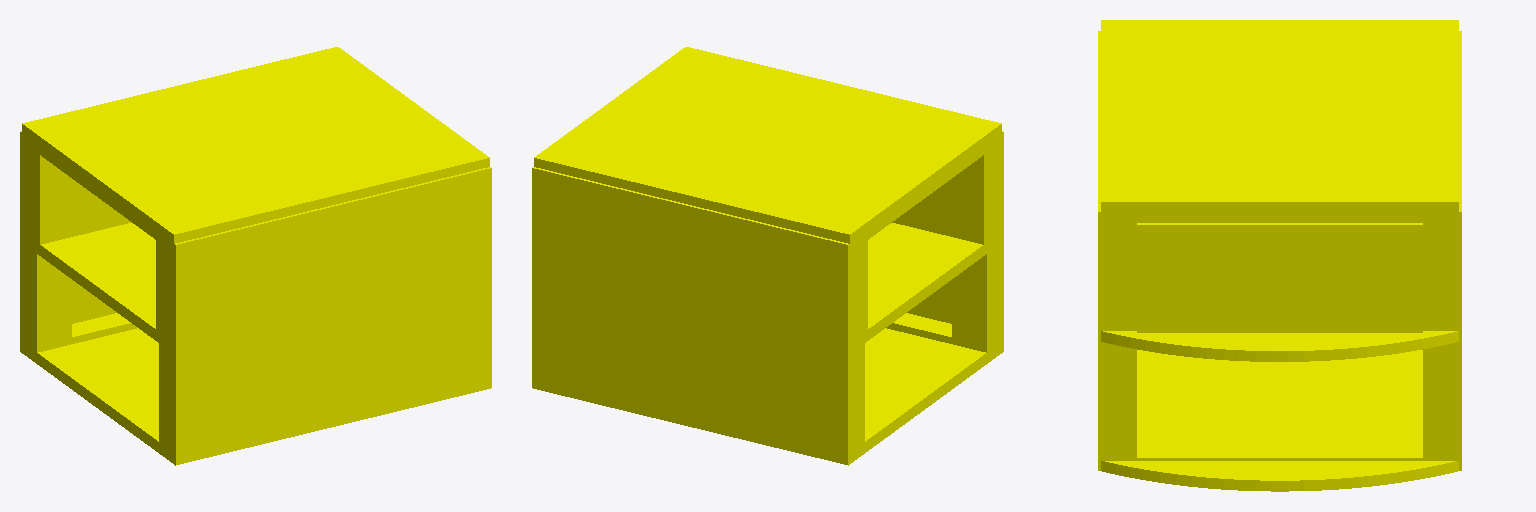
The robot description file, URDF, robot "drawer":
<?xml version="1.0"?>

<robot name="drawer">
  <link name="drawer_bottom">
    <contact>
      <restitution value="1.0e-8" />
      <!-- <lateral_friction value="1.0"/> -->
      <!-- <rolling_friction value="1.0e+8"/> 
      <spinning_friction value="1.0e+8"/>  -->
      <contact_cfm value="0.00001"/>
      <contact_erp value="0.2"/>
    </contact>
    
    <inertial>
      <origin xyz="0 0 0" />
      <mass value="0.1" />
      <inertia  ixx="1" ixy="0.0"  ixz="0.0"  iyy="1"  iyz="0.0"  izz="1" />
    </inertial>

    <visual>
      <origin xyz="0 0 0"/>
      <geometry>
	<mesh filename="mesh/drawer_bottom.stl" />
      </geometry>
      <material name="LightBule">
        <color rgba="1. 1. 0. 1.0"/>
      </material>zz
    </visual>

    <collision>
      <origin xyz="0 0 0"/>
      <geometry>
        <mesh filename="mesh/drawer_bottom.stl" />
      </geometry>
    </collision>

  </link>



  <link name="drawer_bottom2">
    <contact>
      <restitution value="1.0e-8" />
      <!-- <lateral_friction value="1.0"/> -->
      <!-- <rolling_friction value="1.0e+8"/> 
      <spinning_friction value="1.0e+8"/> -->
      <contact_cfm value="0.00001"/>
      <contact_erp value="0.2"/>
    </contact>
    <inertial>
      <origin xyz="0 0 0" />
      <mass value="0.1" />
      <inertia  ixx="1" ixy="0.0"  ixz="0.0"  iyy="1"  iyz="0.0"  izz="1" />
    </inertial>

    <visual>
      <origin xyz="0 0 0"/>
      <geometry>
  <mesh filename="mesh/drawer_bottom.stl" />
      </geometry>
      <material name="LightBule">
        <color rgba="1. 1. 0. 1.0"/>
      </material>
    </visual>

    <!-- <collision>
      <origin xyz="0 0 0"/>
      <geometry>
        <mesh filename="mesh/drawer_bottom.stl" />
      </geometry>
    </collision> -->

  </link>

  <joint name="pile" type="fixed">
    <parent link="drawer_bottom"/>
    <child link="drawer_bottom2"/>
    <origin rpy="0 0 0" xyz="0 0 0.06" />
  </joint>

  <link name="drawer_cover">
    <contact>
      <restitution value="1.0e-8" />
      <!-- <lateral_friction value="1.0"/> -->
      <!-- <rolling_friction value="1.0e+8"/> 
      <spinning_friction value="1.0e+8"/> -->
      <contact_cfm value="0.00001"/>
      <contact_erp value="0.2"/>
    </contact>
    <inertial>
      <origin xyz="0 0 0" />
      <mass value="0.1" />
      <inertia  ixx="1" ixy="0.0"  ixz="0.0"  iyy="1"  iyz="0.0"  izz="1" />
    </inertial>

    <visual>
      <origin xyz="0 0 0"/>
      <geometry>
        <box size="0.18 0.15 0.01" />
      </geometry>
      <!-- <geometry>
  <mesh filename="mesh/drawer_cover.stl" />
      </geometry> -->
      <material name="LightBule">
        <color rgba="1. 1. 0. 1.0"/>
      </material>
    </visual>

    <collision>
      <origin xyz="0 0 0"/>
      <geometry>
        <box size="0.18 0.15 0.01" />
      </geometry>
      <!-- <geometry>
        <mesh filename="mesh/drawer_cover.stl" />
      </geometry> -->
    </collision>

  </link>

  <joint name="qwe" type="fixed">
    <parent link="drawer_bottom"/>
    <child link="drawer_bottom_1"/>
    <origin rpy="0 0 0" xyz="0 -0.075 0.06" />
  </joint>


  <link name="drawer_bottom_1">

    <visual>
      <origin xyz="0 0 0"/>
      <geometry>
        <box size="0.18 0.003 0.12" />
      </geometry>

      <material name="LightBule">
        <color rgba="1. 1. 0. 1.0"/>
      </material>
    </visual>

  </link>


  <joint name="qwer" type="fixed">
    <parent link="drawer_bottom"/>
    <child link="drawer_bottom_2"/>
    <origin rpy="0 0 0" xyz="0 0.075 0.06" />
  </joint>

  <link name="drawer_bottom_2">


    <visual>
      <origin xyz="0 0 0"/>
      <geometry>
        <box size="0.18 0.003 0.12" />
      </geometry>

      <material name="LightBule">
        <color rgba="1. 1. 0. 1.0"/>
      </material>
    </visual>

  </link>

  <joint name="cover_pile" type="fixed">
    <parent link="drawer_bottom2"/>
    <child link="drawer_cover"/>
    <origin rpy="0 0 0" xyz="0 0 0.06" />
  </joint>

  <link name="drawer_main">
    <contact>
      <restitution value="1.0e-8" />
      <!-- <lateral_friction value="1.0"/> -->
      <!-- <rolling_friction value="1.0e+8"/> 
      <spinning_friction value="1.0e+8"/> -->
      <contact_cfm value="0.00001"/>
      <contact_erp value="0.2"/>
    </contact>
    <inertial>
      <origin xyz="0 0 0" />
      <mass value="0.1" />
      <inertia  ixx="1" ixy="0.0"  ixz="0.0"  iyy="1"  iyz="0.0"  izz="1" />
    </inertial>

    <visual>
      <origin xyz="0 0 0"/>
      <geometry>
        <box size="0.18 0.12 0.0025" />
      </geometry>
      <!-- <geometry>
  <mesh filename="mesh/drawer_main.stl" />
      </geometry> -->
      <material name="LightBule">
        <color rgba="1. 1. 0. 1.0"/>
      </material>
    </visual>

    <collision>
      <origin xyz="0 0 0"/>
      <!-- <geometry>
        <box size="0.18 0.12 0.0025" />
      </geometry> -->
      <geometry>
        <mesh filename="mesh/drawer_main.stl" />
      </geometry>
    </collision>

  </link>

  <joint name="main_pile" type="fixed">
    <parent link="drawer_bottom"/>
    <child link="drawer_main"/>
    <origin rpy="0 0 0" xyz="0 0 0.005" />
    <axis xyz ="1 0 0" />
    <limit lower="0" upper="0.12" effort="0.0" velocity="3.15"/>
  </joint>



  <link name="drawer_main2">
    
    <contact>
      <restitution value="1.0e-8" />
      <!-- <lateral_friction value="1"/> -->
      <!-- <rolling_friction value="10"/> 
      <spinning_friction value="10"/> -->
      <contact_cfm value="0.00001"/>
      <contact_erp value="0.2"/>
    </contact>

    <inertial>
      <origin xyz="0 0 0" />
      <mass value="0.1" />
      <inertia  ixx="1" ixy="0.0"  ixz="0.0"  iyy="1"  iyz="0.0"  izz="1" />
    </inertial>

    <visual>
      <origin xyz="0 0 0"/>
      <geometry>
        <box size="0.18 0.12 0.0025" />
      </geometry>
      <!-- <geometry>
  <mesh filename="mesh/drawer_main.stl" />
      </geometry> -->
      <material name="LightBule">
        <color rgba="1. 1. 0. 1.0"/>
      </material>
    </visual>

    <collision>
      <origin xyz="0 0 0"/>
      <geometry>
        <box size="0.18 0.12 0.01" />
      </geometry>
    </collision>

  </link>

  <joint name="asd" type="fixed">
    <parent link="drawer_main2"/>
    <child link="drawer_main2_1"/>
    <origin rpy="0 0 0" xyz="0.09 0 0.025" />
  </joint>

  <link name="drawer_main2_1">
    
    <contact>
      <restitution value="1.0e-8" />
      <!-- <lateral_friction value="1"/> -->
      <!-- <rolling_friction value="1.0e+8"/> 
      <spinning_friction value="1.0e+8"/> -->
      <contact_cfm value="0.00001"/>
      <contact_erp value="0.2"/>
    </contact>

    <inertial>
      <origin xyz="0 0 0" />
      <mass value="0.1" />
      <inertia  ixx="1" ixy="0.0"  ixz="0.0"  iyy="1"  iyz="0.0"  izz="1" />
    </inertial>

    <visual>
      <origin xyz="0 0 0"/>
      <geometry>
        <box size="0.003 0.12 0.05" />
      </geometry>
      <material name="LightBule">
        <color rgba="1. 1. 0. 1.0"/>
      </material>
    </visual>

    <collision>
      <origin xyz="0 0 0"/>
      <geometry>
        <box size="0.01 0.12 0.05" />
      </geometry>
    </collision>
  </link>






  <joint name="asdf" type="fixed">
    <parent link="drawer_main2"/>
    <child link="drawer_main2_2"/>
    <origin rpy="0 0 0" xyz="0. 0.0585 0.025" />
  </joint>

  <link name="drawer_main2_2">
    
    <contact>
      <restitution value="1.0e-8" />
      <!-- <lateral_friction value="1"/> -->
      <!-- <rolling_friction value="1.0e+8"/> 
      <spinning_friction value="1.0e+8"/> -->
      <contact_cfm value="0.00001"/>
      <contact_erp value="0.2"/>
    </contact>

    <inertial>
      <origin xyz="0 0 0" />
      <mass value="0.1" />
      <inertia  ixx="1" ixy="0.0"  ixz="0.0"  iyy="1"  iyz="0.0"  izz="1" />
    </inertial>

    <visual>
      <origin xyz="0 0 0"/>
      <geometry>
        <box size="0.18 0.003 0.05" />
      </geometry>
      <material name="LightBule">
        <color rgba="1. 1. 0. 1.0"/>
      </material>
    </visual>

    <collision>
      <origin xyz="0 0 0"/>
      <geometry>
        <box size="0.18 0.01 0.05" />
      </geometry>
    </collision>
  </link>




  <joint name="asdfg" type="fixed">
    <parent link="drawer_main2"/>
    <child link="drawer_main2_3"/>
    <origin rpy="0 0 0" xyz="0. -0.0585 0.025" />
  </joint>



  <link name="drawer_main2_3">
    
    <contact>
      <restitution value="1.0e-8" />
      <!-- <lateral_friction value="1"/> -->
      <contact_cfm value="0.00001"/>
      <contact_erp value="0.2"/>
    </contact>

    <inertial>
      <origin xyz="0 0 0" />
      <mass value="0.1" />
      <inertia  ixx="1" ixy="0.0"  ixz="0.0"  iyy="1"  iyz="0.0"  izz="1" />
    </inertial>

    <visual>
      <origin xyz="0 0 0"/>
      <geometry>
        <box size="0.18 0.003 0.05" />
      </geometry>
      <material name="LightBule">
        <color rgba="1. 1. 0. 1.0"/>
      </material>
    </visual>

    <collision>
      <origin xyz="0 0 0"/>
      <geometry>
        <box size="0.18 0.01 0.05" />
      </geometry>
    </collision>
  </link>



  <joint name="main2_pile" type="prismatic">
    <parent link="drawer_bottom2"/>
    <child link="drawer_main2"/>
    <origin rpy="0 0 0" xyz="0 0 0.005" />
    <axis xyz ="1 0 0" />
    <limit lower="0" upper="0.12" effort="0.0" velocity="3.15"/>
  </joint>


</robot>

--- What the picture shows (computed from the rendered views, not written in the file) ---
Views: 3 orthographic renders of the robot side by side, from view 1: azimuth 30°, elevation 25°; view 2: azimuth 150°, elevation 25°; view 3: azimuth 270°, elevation 25°.
Robot: drawer — 10 links, 9 joints (1 prismatic, 8 fixed); root link drawer_bottom; default pose: all joints at 0.
Links seen in each view (by area): view 1: drawer_bottom_1, drawer_cover, drawer_bottom, drawer_main, drawer_main2, drawer_main2_2, drawer_bottom2, drawer_bottom_2; view 2: drawer_bottom_2, drawer_cover, drawer_bottom, drawer_main, drawer_main2, drawer_main2_3, drawer_bottom2, drawer_bottom_1; view 3: drawer_cover, drawer_main2_1, drawer_main, drawer_bottom, drawer_bottom2, drawer_bottom_2, drawer_bottom_1.
Link boxes in pixels (left/top/right/bottom): drawer_bottom_1: left=173, top=167, right=491, bottom=465; drawer_cover: left=22, top=47, right=489, bottom=247; drawer_bottom: left=22, top=244, right=173, bottom=462; drawer_main: left=37, top=328, right=158, bottom=443; drawer_main2: left=37, top=223, right=158, bottom=334; drawer_main2_2: left=37, top=153, right=131, bottom=244; drawer_bottom2: left=22, top=135, right=173, bottom=352; drawer_bottom_2: left=20, top=131, right=116, bottom=352; drawer_bottom_2: left=532, top=167, right=850, bottom=465; drawer_cover: left=534, top=47, right=1001, bottom=250; drawer_bottom: left=851, top=243, right=1001, bottom=462; drawer_main: left=865, top=328, right=986, bottom=443; drawer_main2: left=865, top=223, right=986, bottom=335; drawer_main2_3: left=892, top=153, right=986, bottom=246; drawer_bottom2: left=850, top=133, right=1001, bottom=352; drawer_bottom_1: left=907, top=131, right=1003, bottom=352; drawer_cover: left=1101, top=20, right=1458, bottom=222; drawer_main2_1: left=1137, top=223, right=1422, bottom=332; drawer_main: left=1137, top=350, right=1422, bottom=460; drawer_bottom: left=1101, top=342, right=1458, bottom=491; drawer_bottom2: left=1101, top=212, right=1458, bottom=361; drawer_bottom_2: left=1455, top=31, right=1461, bottom=470; drawer_bottom_1: left=1098, top=31, right=1104, bottom=470.
Size in the robot's own frame: 0.2 by 0.153 by 0.125 metres.
2 mesh visuals loaded from 1 distinct referenced files (1 binary STL).